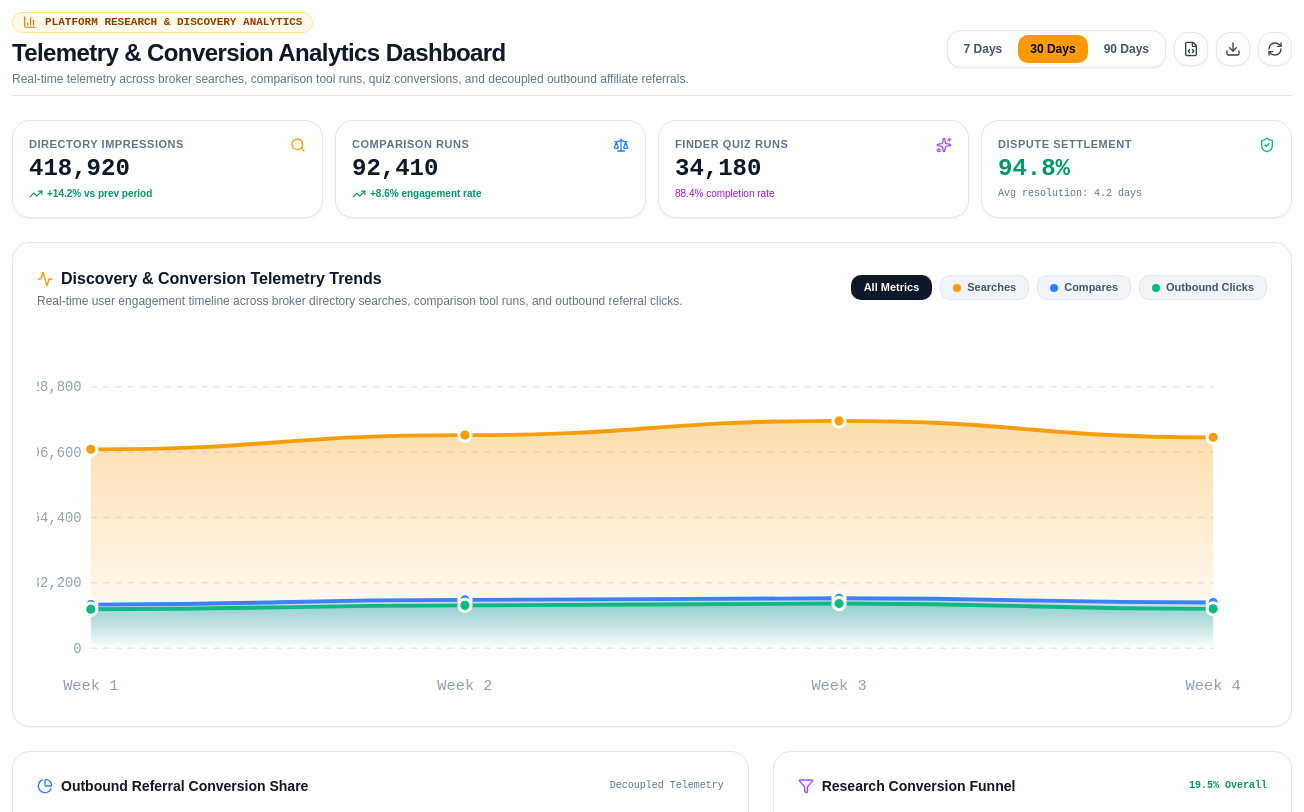
Test case: Telemetry & Conversion Analytics Dashboard (analytics-dashboard.tsx) › switches timeframe range between 7 Days, 30 Days, and 90 Days
The image size is (1304, 812).
What coordinates should you click on to do the following:
click the button "7 Days"
I would click on:
 (983, 49)
Its box is [952,35,1014,63].
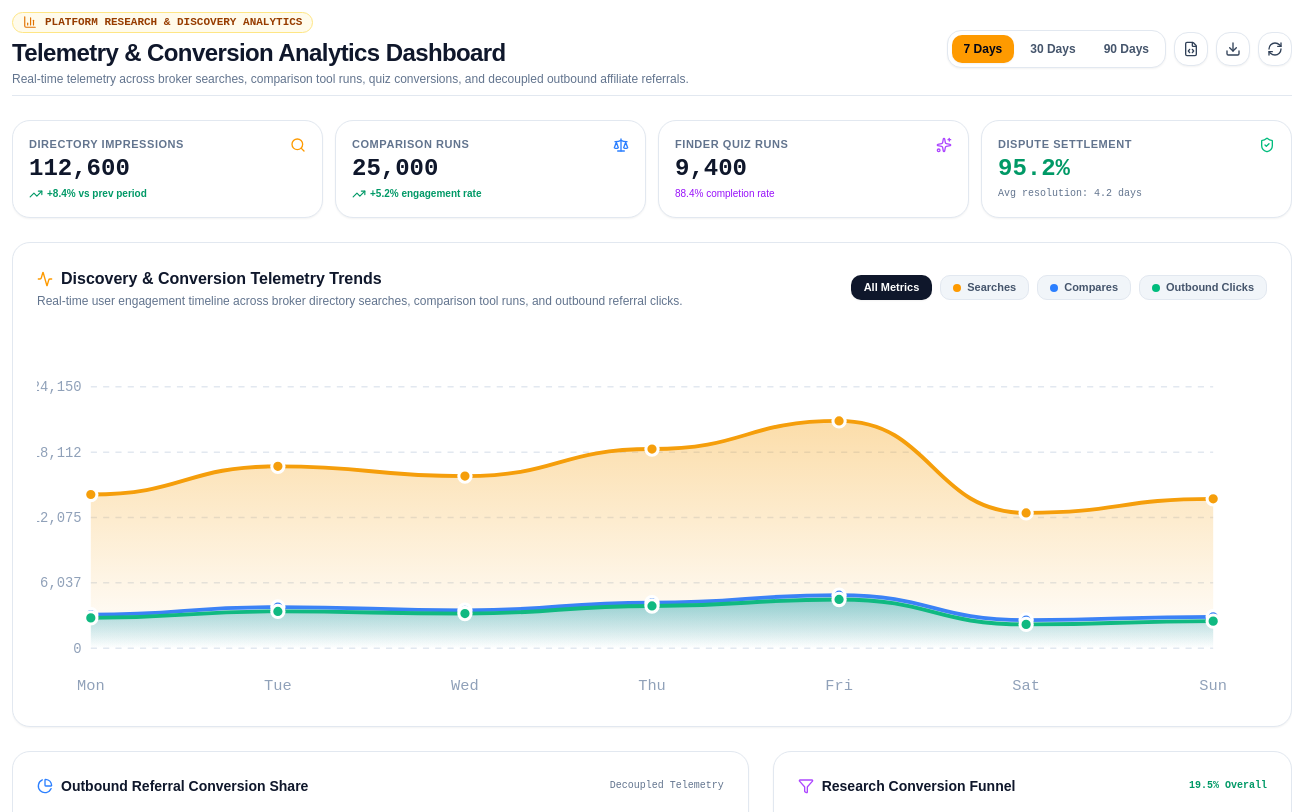
Expected: the text "112,600" is shown, [29,155,130,182]
What coordinates should you click on to do the following:
click the button "90 Days"
I would click on:
 (1126, 49)
Its box is [1092,35,1161,63].
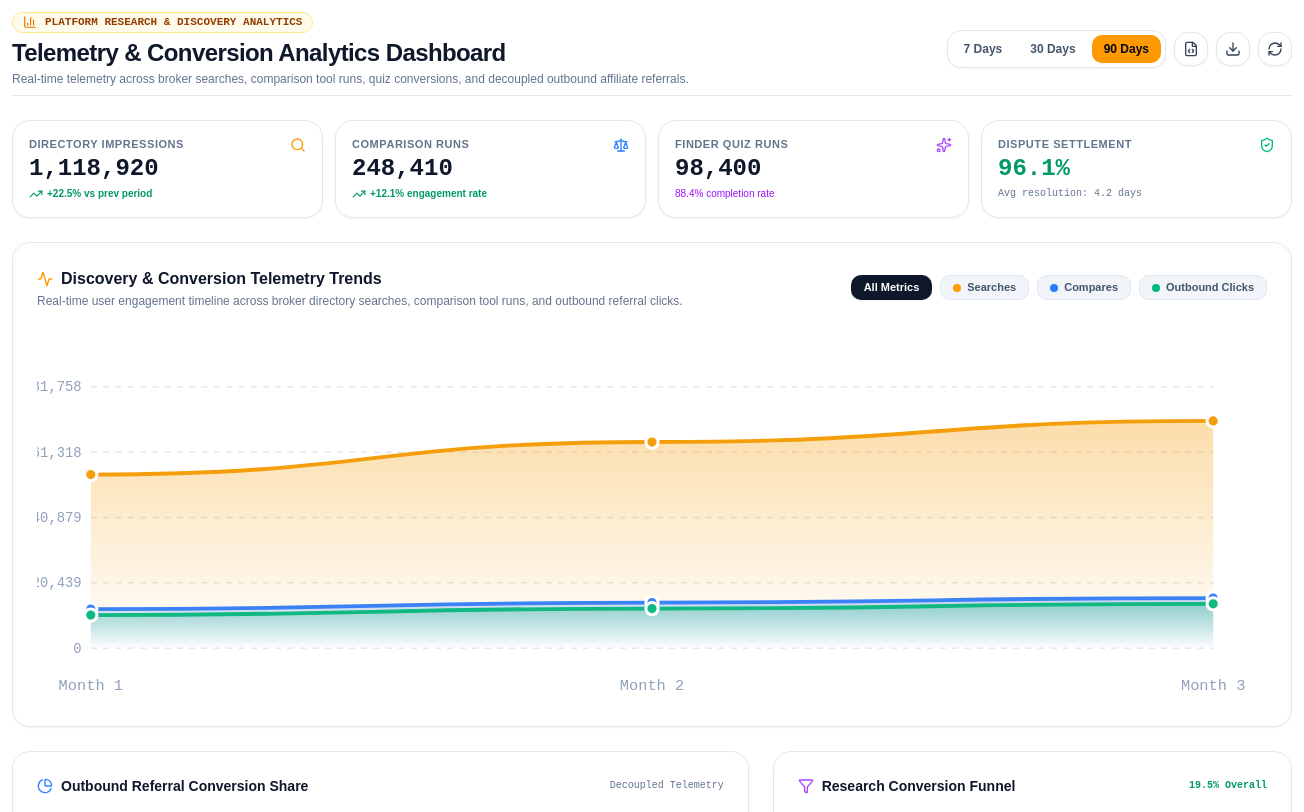
Expected: the text "1,118,920" is shown, [29,155,159,182]
What coordinates should you click on to do the following:
click the button "30 Days"
I would click on:
 (1053, 49)
Its box is [1018,35,1088,63].
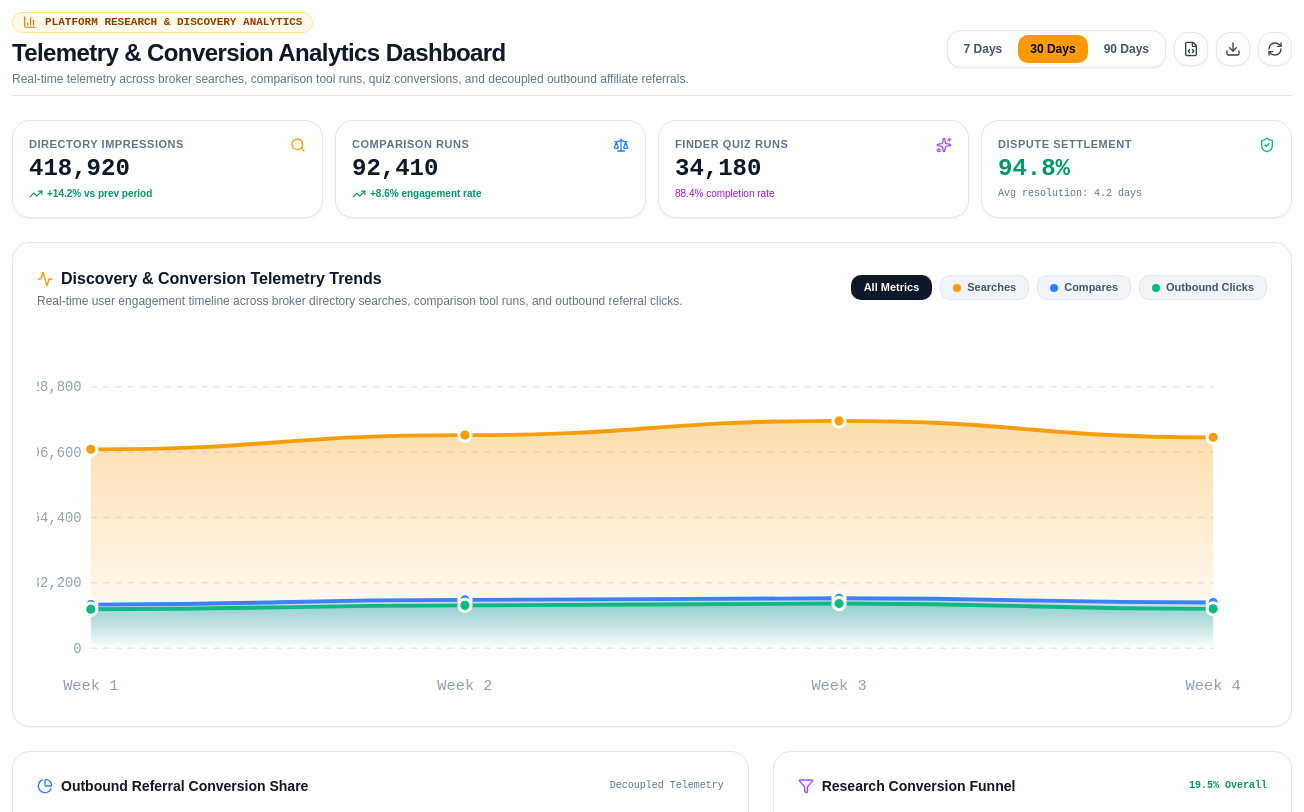
Expected: the text "418,920" is shown, [29,155,130,182]
